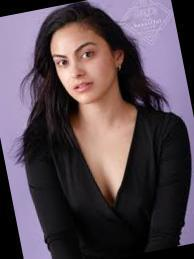Sober: (53, 30, 114, 100)
